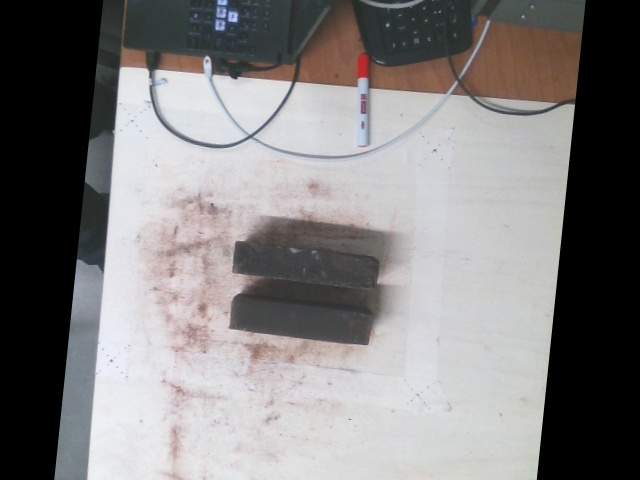brick-side: (233, 240, 379, 290), (231, 296, 371, 346)
